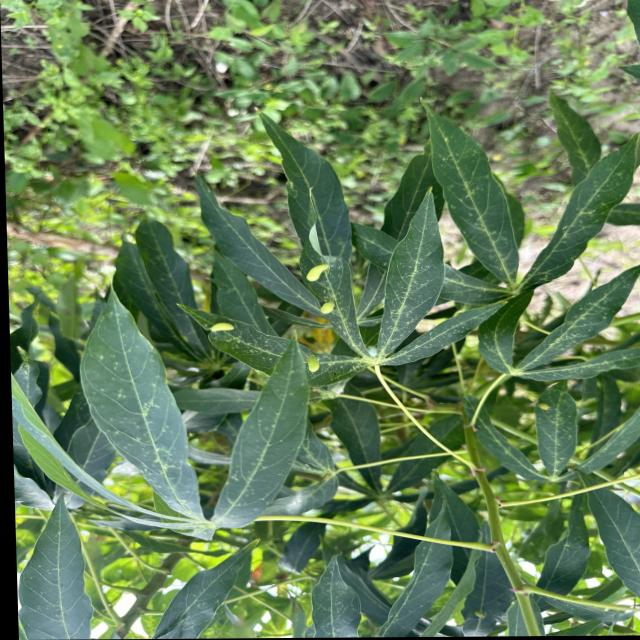Maleza: (0, 0, 248, 171)
Mosca: (311, 292, 349, 325), (292, 260, 338, 286), (200, 309, 237, 340), (298, 353, 322, 380), (534, 398, 553, 415)
